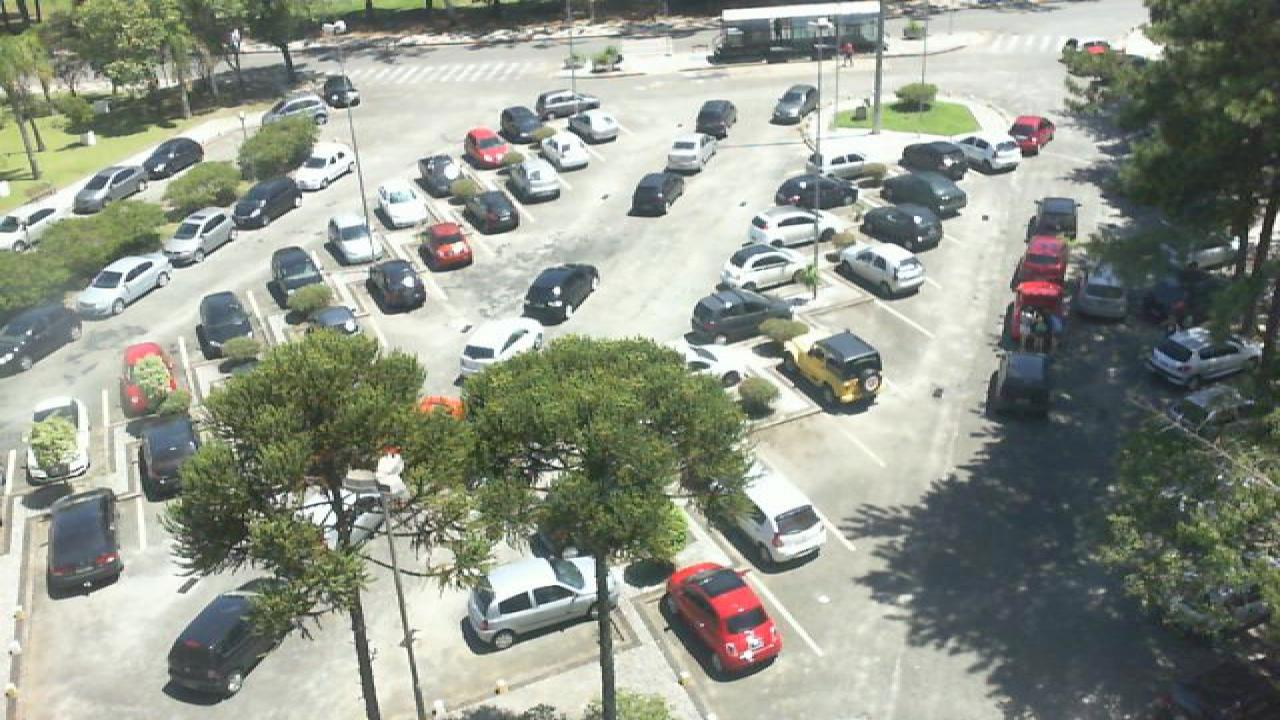Car: (158, 575, 284, 703), (694, 463, 830, 567), (662, 560, 786, 673), (456, 554, 602, 649), (44, 488, 126, 598), (780, 329, 888, 412), (1144, 329, 1260, 387), (70, 255, 172, 320), (454, 316, 542, 387), (22, 398, 92, 486), (130, 413, 198, 503), (694, 286, 796, 342), (0, 306, 82, 375), (716, 243, 814, 298), (834, 240, 928, 297), (986, 350, 1060, 421), (194, 290, 264, 364), (522, 262, 600, 324), (118, 341, 182, 416), (162, 208, 238, 269), (876, 172, 968, 222), (854, 204, 942, 253), (228, 178, 302, 233), (746, 207, 838, 251), (1000, 297, 1066, 358), (266, 246, 326, 308), (70, 165, 142, 214), (362, 259, 426, 314), (0, 202, 68, 252), (772, 172, 854, 213), (282, 142, 352, 190), (900, 138, 970, 186), (1074, 264, 1134, 320), (138, 136, 206, 184), (324, 214, 386, 266), (810, 145, 890, 185), (956, 132, 1020, 176), (462, 189, 522, 235), (420, 222, 474, 271), (368, 184, 422, 233), (1010, 258, 1068, 302), (628, 171, 684, 216), (416, 154, 472, 198), (308, 304, 366, 346), (664, 132, 716, 176), (258, 95, 328, 127), (460, 126, 510, 170), (510, 158, 560, 202), (540, 132, 594, 172), (530, 89, 602, 119), (772, 84, 820, 124), (568, 106, 618, 143), (500, 104, 546, 144), (1036, 196, 1080, 237), (1008, 115, 1054, 154), (1022, 233, 1070, 270), (694, 100, 738, 140), (322, 72, 362, 108)
